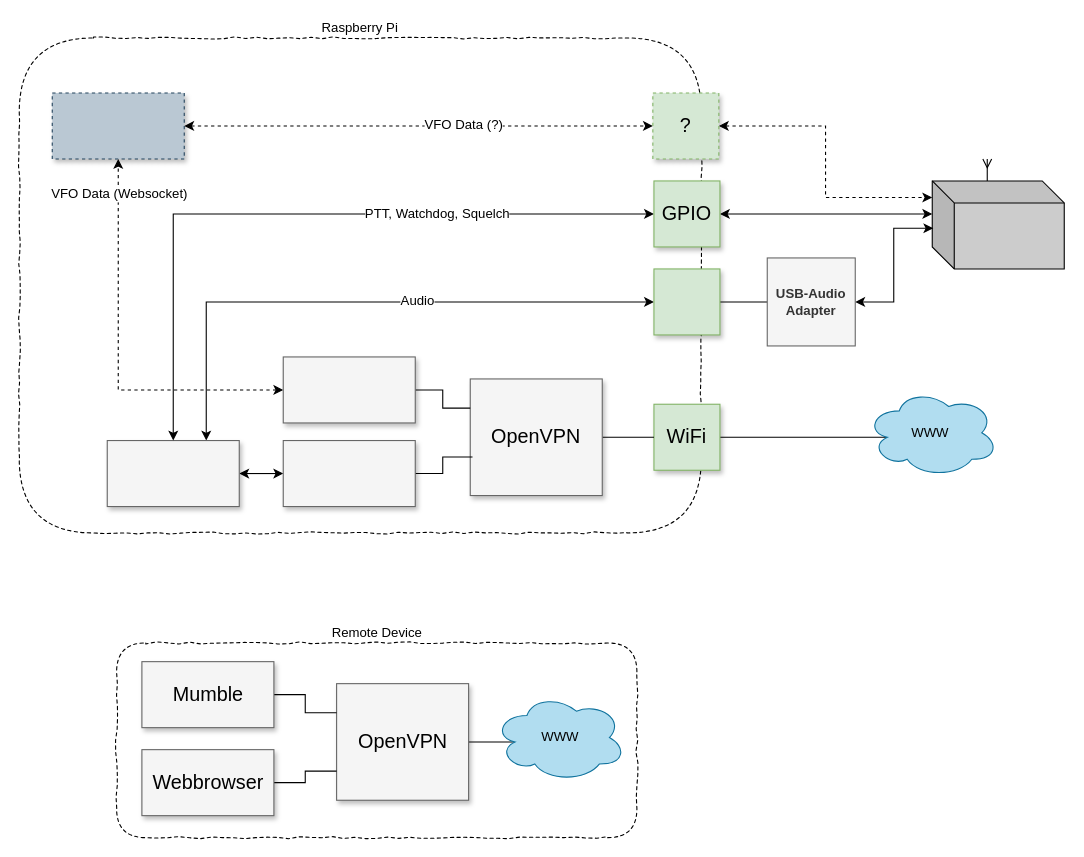
The diagram is 1084 pixels wide and 857 high, and some of its shapes have lost their labels. The centre of each missing label's shape, as x and y in pixels:
"Bridge" belongs at (x=119, y=127).
"Mumble Server" belongs at (x=350, y=474).
"talKKonnect" belongs at (x=174, y=474).
"TRX" belongs at (x=997, y=224).
"USB" belongs at (x=687, y=303).
"Webserver" belongs at (x=350, y=391).
